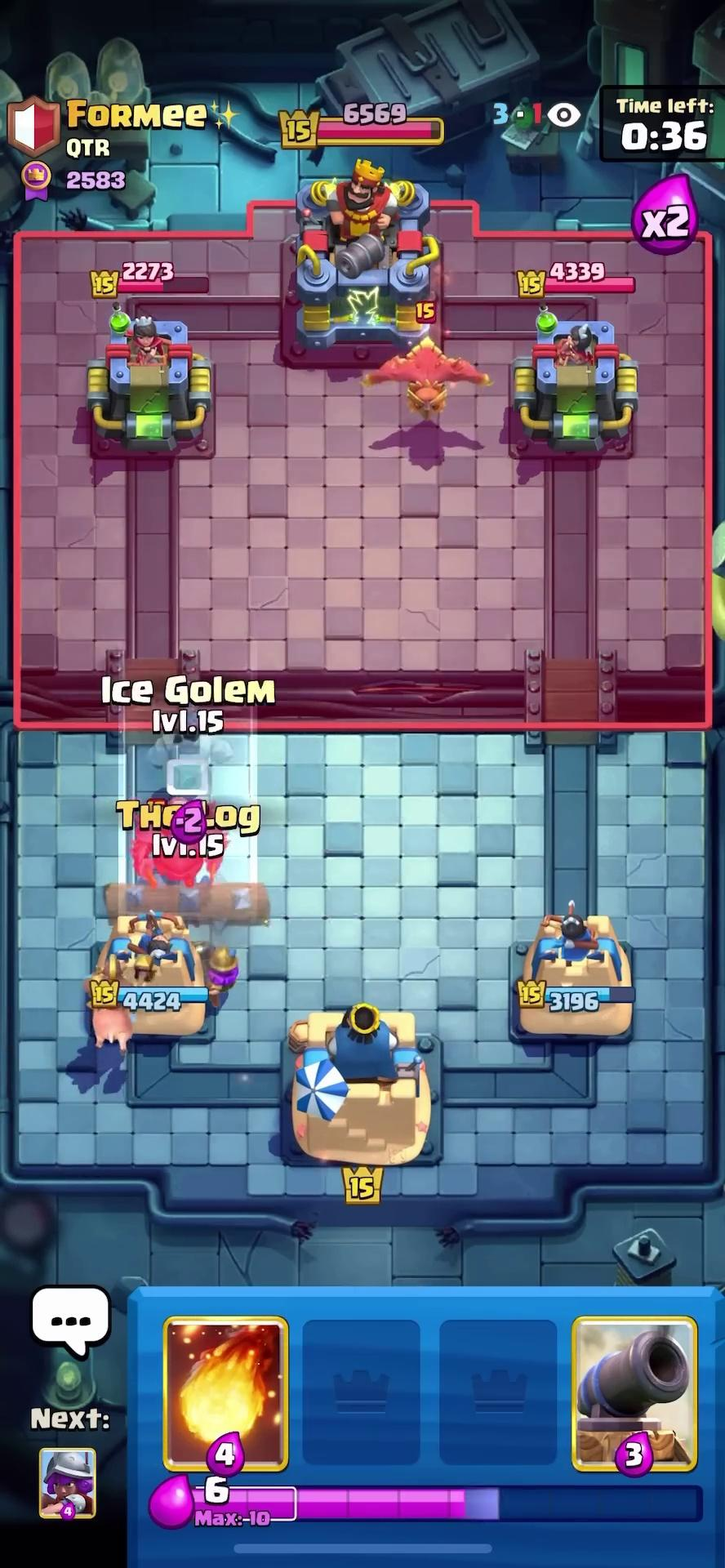musketeer: (204, 935, 251, 996)
